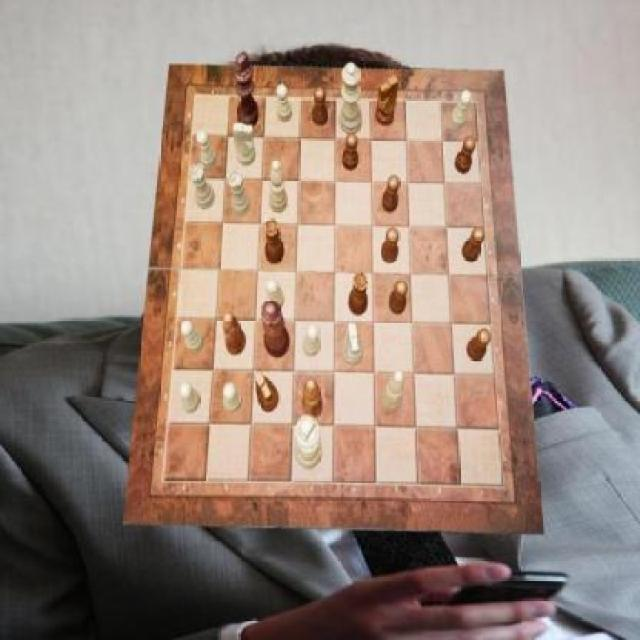bishop: (223, 312, 247, 356), (301, 378, 324, 418)
black-bishop: (234, 51, 258, 129)
black-king: (377, 76, 400, 126), (254, 371, 278, 412)
black-knight: (468, 329, 492, 362), (463, 228, 486, 262), (456, 135, 476, 174), (389, 280, 408, 316), (382, 228, 401, 262), (382, 175, 399, 213), (343, 132, 360, 170), (312, 86, 328, 126)
black-pawn: (260, 300, 290, 358)
black-queen: (266, 218, 286, 264), (348, 272, 368, 316)
black-rook: (382, 369, 406, 412), (270, 158, 288, 212)
white-bishop: (296, 415, 322, 470)
white-king: (234, 121, 257, 166), (341, 323, 364, 365)
white-knight: (449, 91, 472, 131), (180, 318, 204, 352), (197, 131, 217, 169), (266, 277, 286, 311), (180, 381, 200, 414), (303, 323, 321, 358), (277, 83, 293, 122), (223, 382, 242, 412)
white-pawn: (340, 61, 363, 134)
white-queen: (191, 163, 215, 209), (228, 170, 250, 216)
